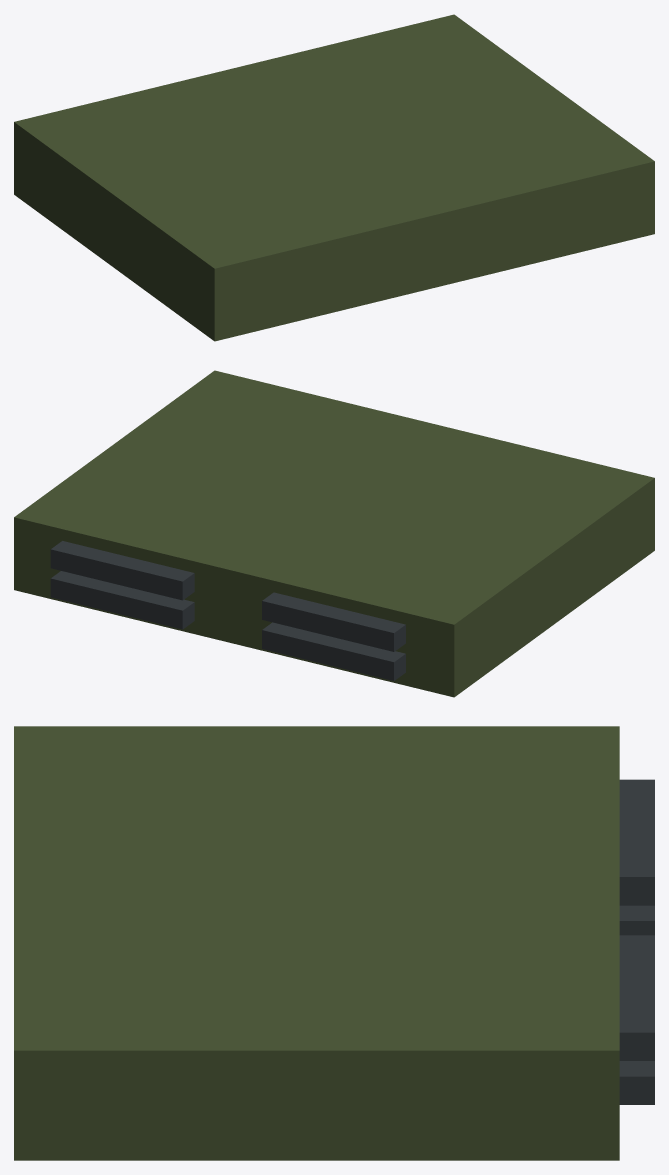
File: utility_vest.glb
3 views of the same model, one above another, from view 1: azimuth 30°, elevation 25°; view 2: azimuth 150°, elevation 25°; view 3: azimuth 270°, elevation 25° (orthographic). The views are drawn at different scales.
Visible parts, largest first — view 1: utility_vest:folded-garment; view 2: utility_vest:folded-garment; view 3: utility_vest:folded-garment.
Boxes of the visible parts, x1,y1,x2,y2 form: utility_vest:folded-garment: (14,14,654,341); utility_vest:folded-garment: (14,370,654,697); utility_vest:folded-garment: (14,726,654,1160).
Bounding box in the file's own units: 0.38 × 0.06 × 0.3175.
